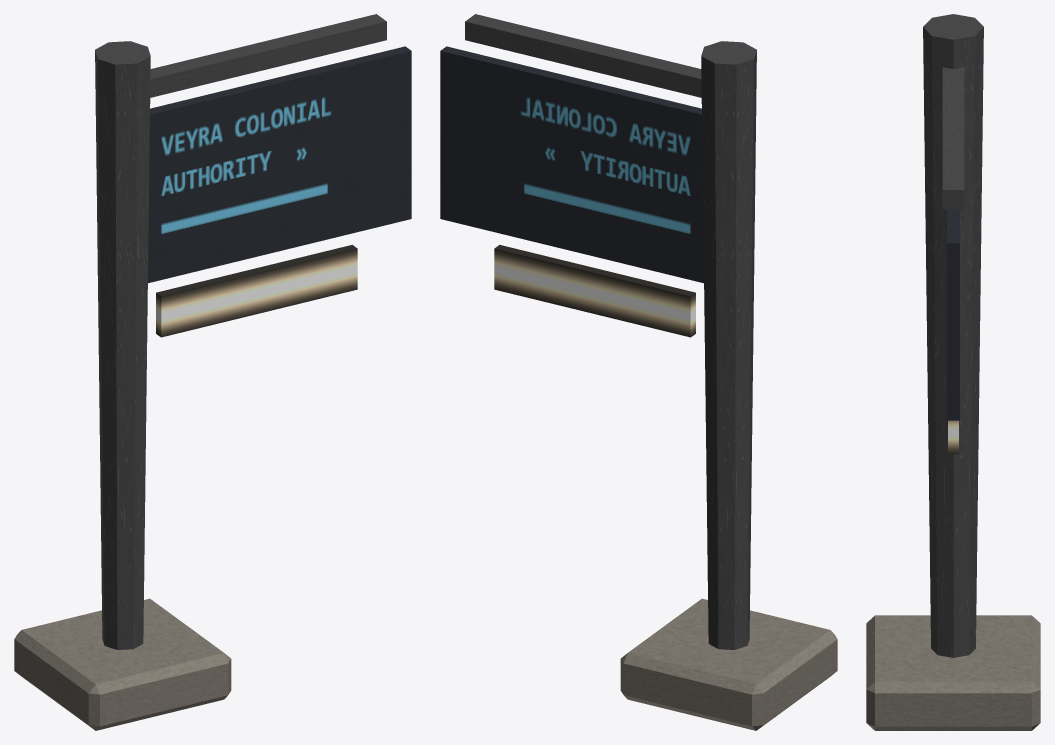
Rendered from holo_sign_post.obj.
The picture shows the model from 3 angles, left to right: view 1: azimuth 30°, elevation 25°; view 2: azimuth 150°, elevation 25°; view 3: azimuth 270°, elevation 25°; orthographic projection. The views are drawn at different scales.
Parts seen in each view (by area): view 1: holo_sign_post; view 2: holo_sign_post; view 3: holo_sign_post.
Boxes of the visible parts, bbox=[...] form: holo_sign_post: bbox=[14, 14, 411, 730]; holo_sign_post: bbox=[440, 14, 837, 730]; holo_sign_post: bbox=[866, 14, 1040, 730].
Bounding box in the file's own units: 2 × 3.4 × 0.8.
Materials: 1 (1 with a texture image).
